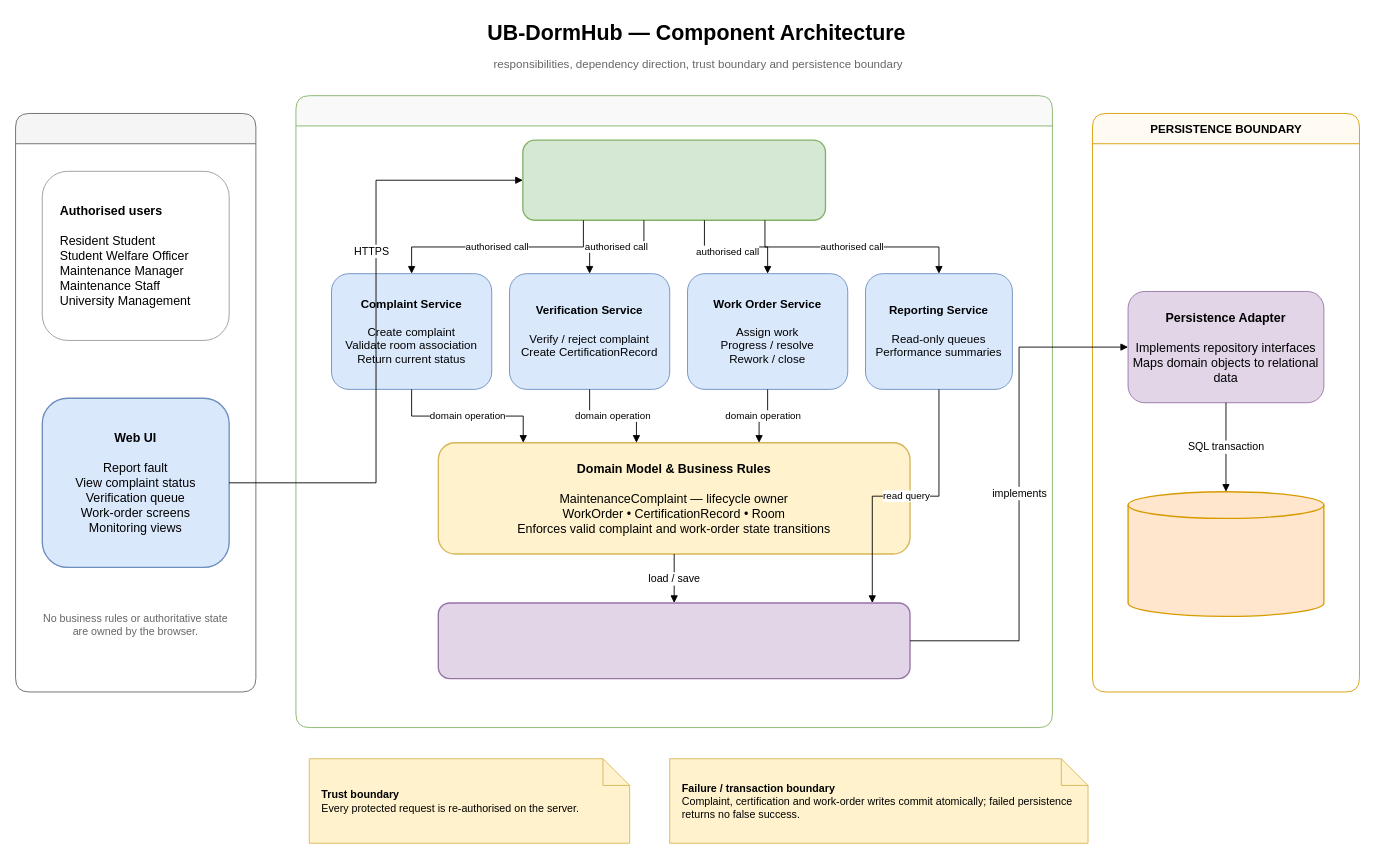
This 1375x859 diagram has some shape labels left out. Each missing label, with the box of its shape:
Access & Authorisation Authenticate user • enforce role permissions: (522, 139, 826, 221)
CLIENT / USER BOUNDARY: (15, 113, 256, 692)
Repository Interfaces + Unit of Work Load • save • query • transaction boundary: (437, 602, 910, 679)
UB-DormHub APPLICATION — single deployable: (295, 95, 1052, 728)
UB-DormHub Database Authoritative persisted state Relational • ACID: (1127, 491, 1324, 617)
